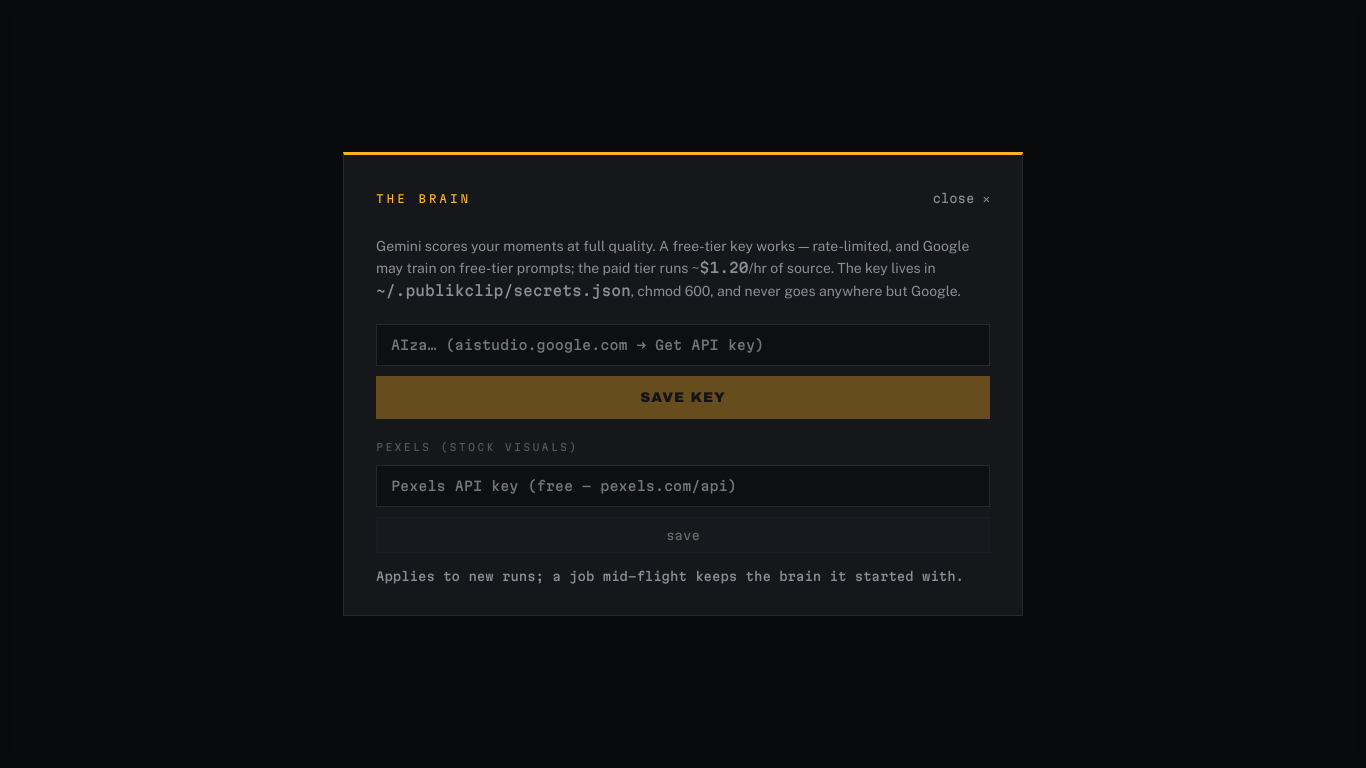
KeyModal (F6) › a rejected key reads REJECTED and saves nothing
In the password field with placeholder "AIza… (aistudio.google.com → Get API key)": (683, 345) left=376, top=324, right=990, bottom=366, type "AIza-test"
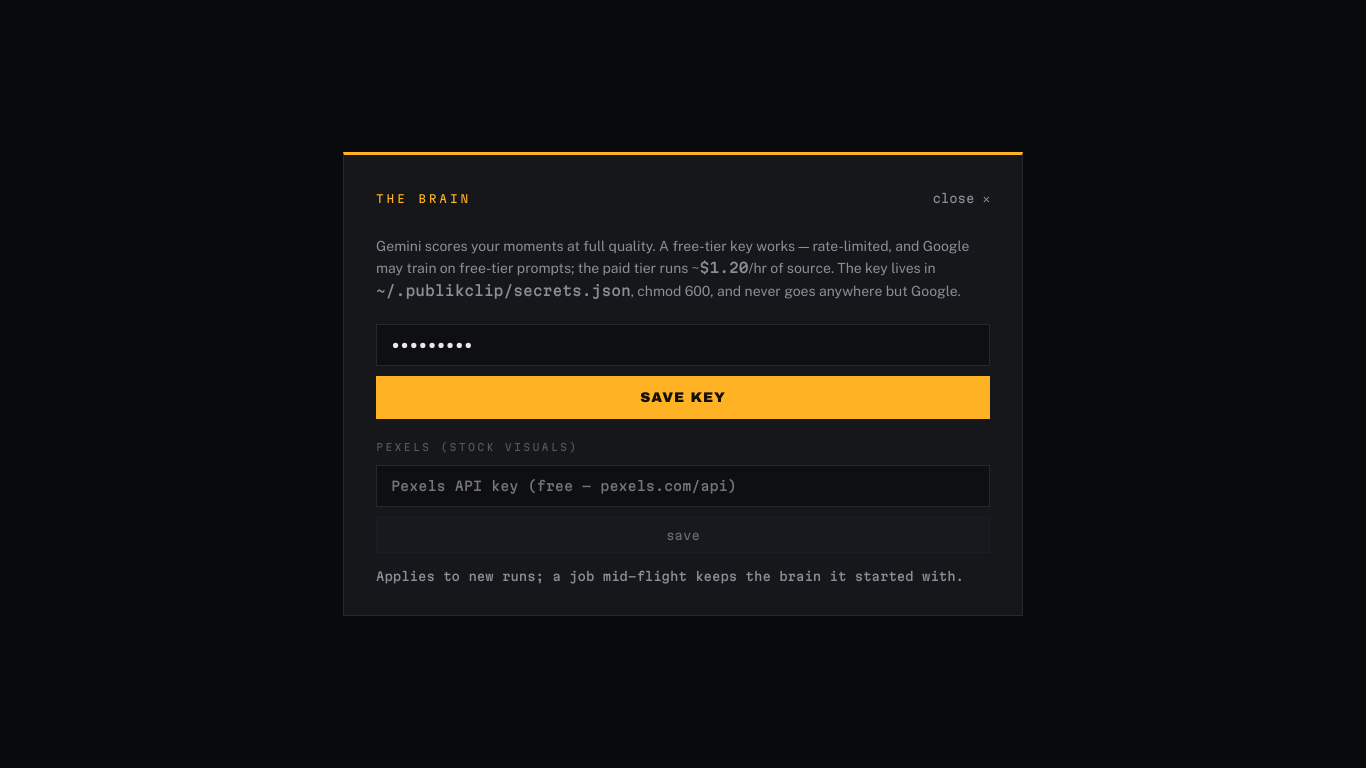
Click the button "SAVE KEY": (683, 398) left=376, top=376, right=990, bottom=419
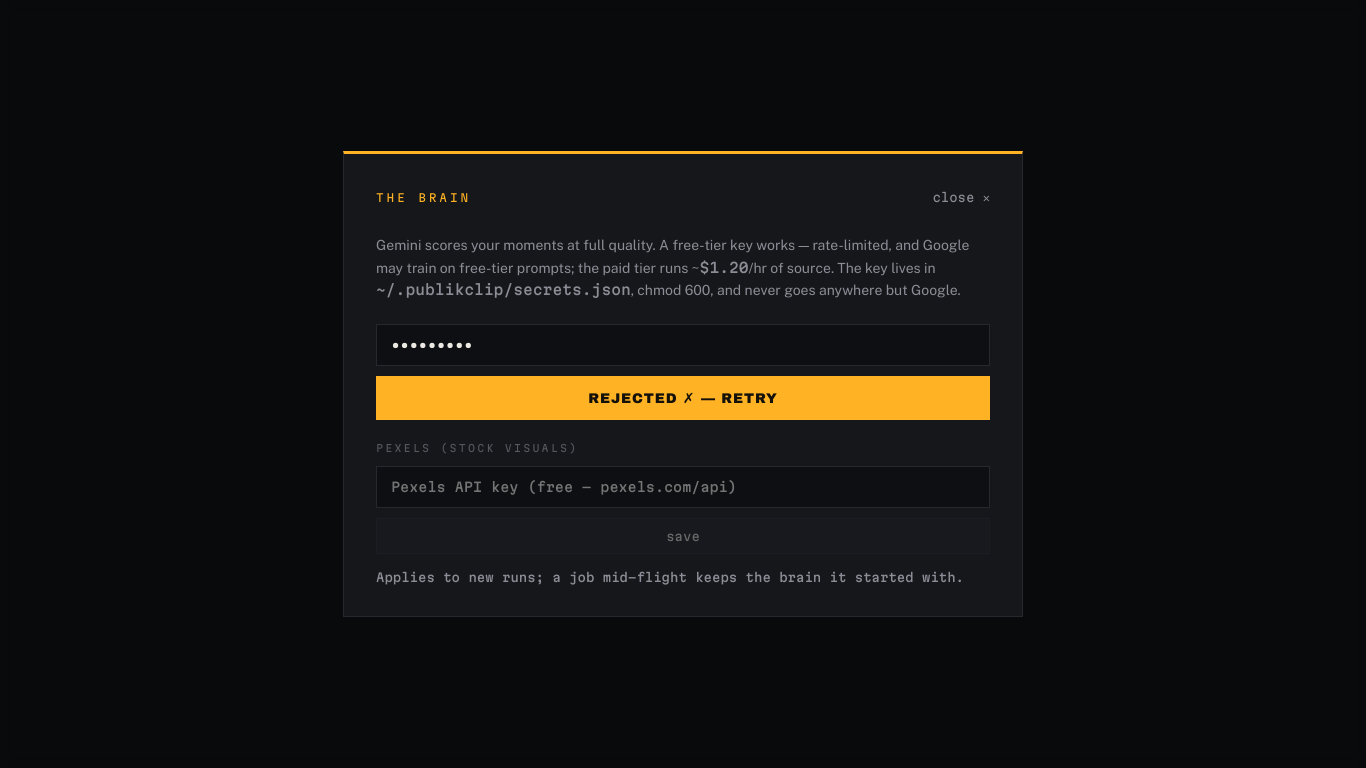
Expected: the button "SAVE KEY" is gone
Expected: the button "REJECTED ✗ — RETRY" is shown, left=376, top=376, right=990, bottom=420
